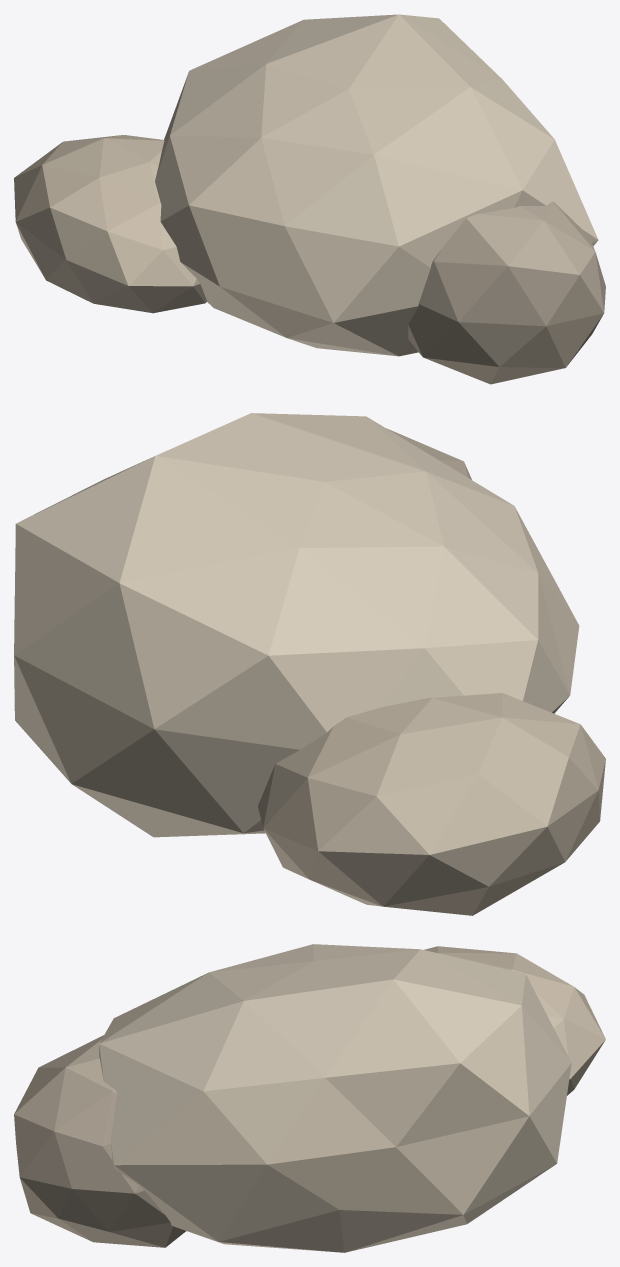
Rendered from campo_rock_cluster_3.glb.
The picture shows the model from 3 angles, top to bottom: view 1: azimuth 30°, elevation 25°; view 2: azimuth 150°, elevation 25°; view 3: azimuth 270°, elevation 25°; orthographic projection. The views are drawn at different scales.
Visible parts, largest first — view 1: campo_rock_cluster_3.glb; view 2: campo_rock_cluster_3.glb; view 3: campo_rock_cluster_3.glb.
Part boxes in pixels (x1=…): campo_rock_cluster_3.glb: x1=14, y1=14, x2=605, y2=384; campo_rock_cluster_3.glb: x1=14, y1=413, x2=605, y2=915; campo_rock_cluster_3.glb: x1=14, y1=944, x2=605, y2=1252.
Size of the model in its own units: 1.76 by 1.02 by 1.96.
